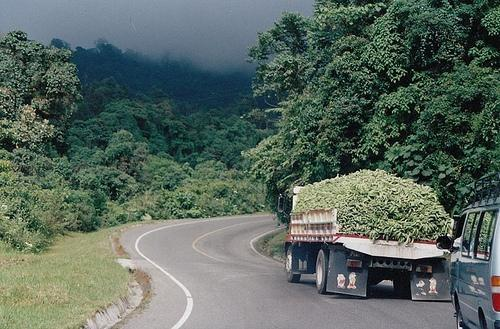car: (451, 172, 500, 329)
truck: (284, 210, 453, 304)
